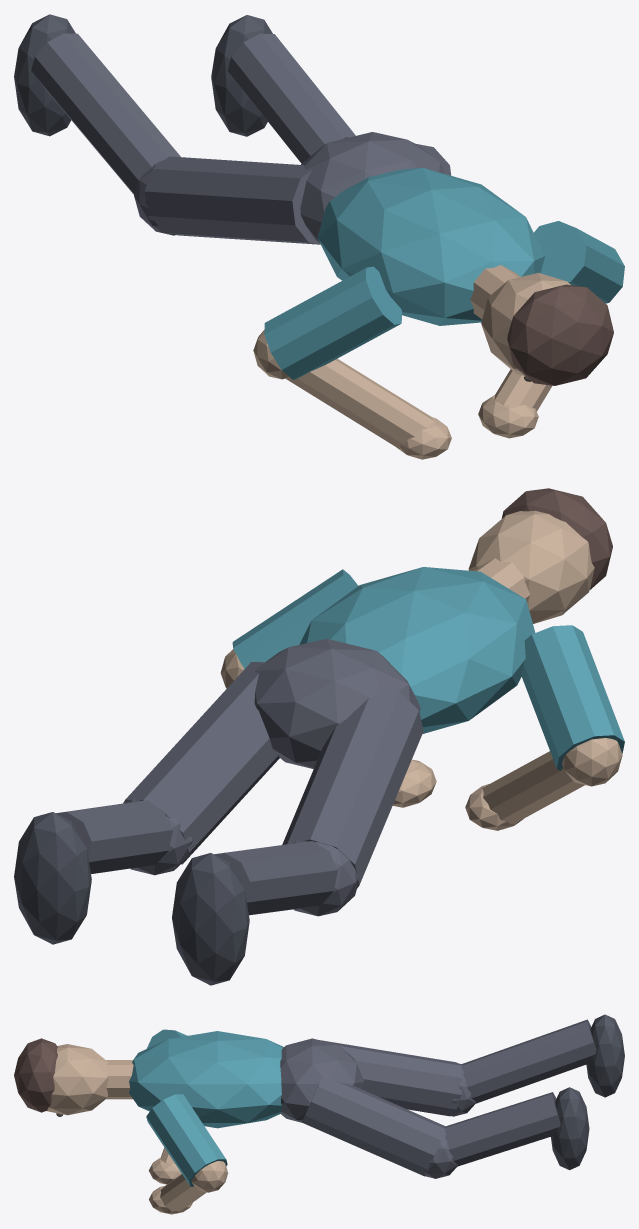
The picture shows the model from 3 angles, top to bottom: view 1: azimuth 30°, elevation 25°; view 2: azimuth 150°, elevation 25°; view 3: azimuth 270°, elevation 25°; orthographic projection. The views are drawn at different scales.
Parts seen in each view (by area): view 1: world; view 2: world; view 3: world.
Boxes of the visible parts, left/top/right/bottom form: world: left=14, top=14, right=624, bottom=459; world: left=14, top=488, right=624, bottom=985; world: left=14, top=1014, right=624, bottom=1214.
Bounding box in the file's own units: 0.93 × 0.565 × 2.
